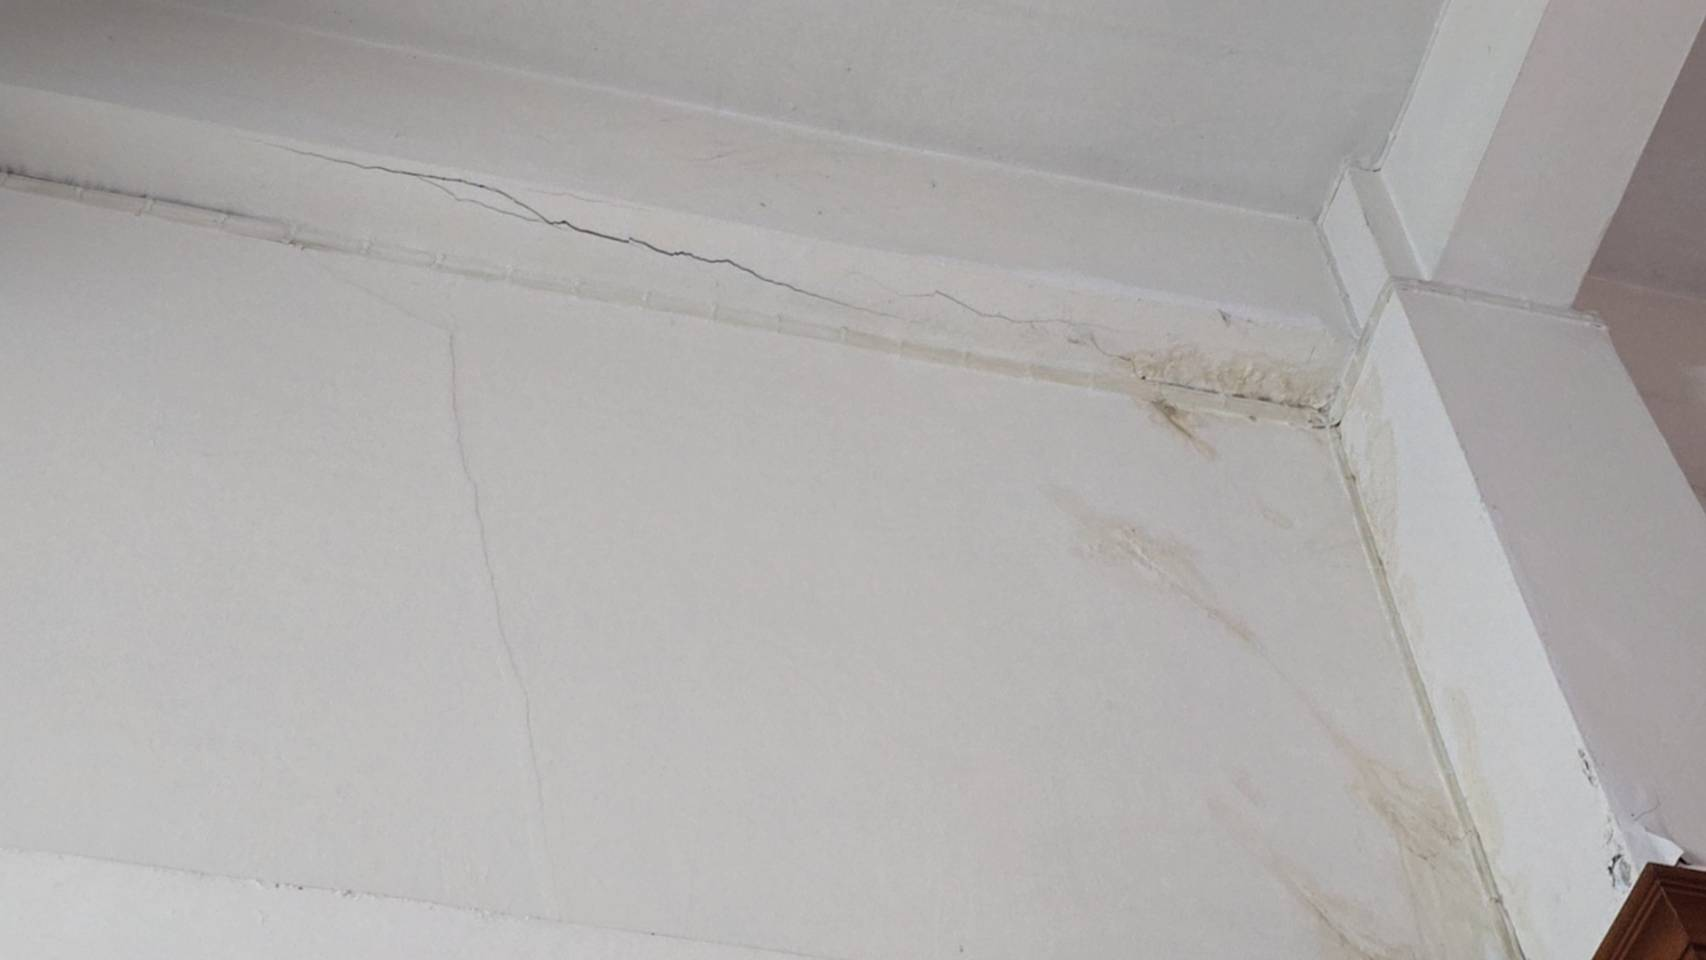Medium: (327, 130, 855, 309)
